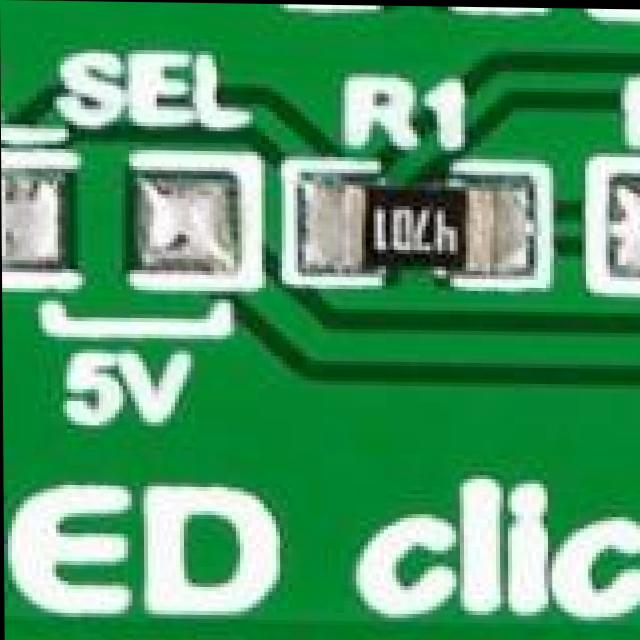LED: (609, 175, 640, 267)
resistor: (337, 180, 502, 270), (1, 160, 38, 272)
